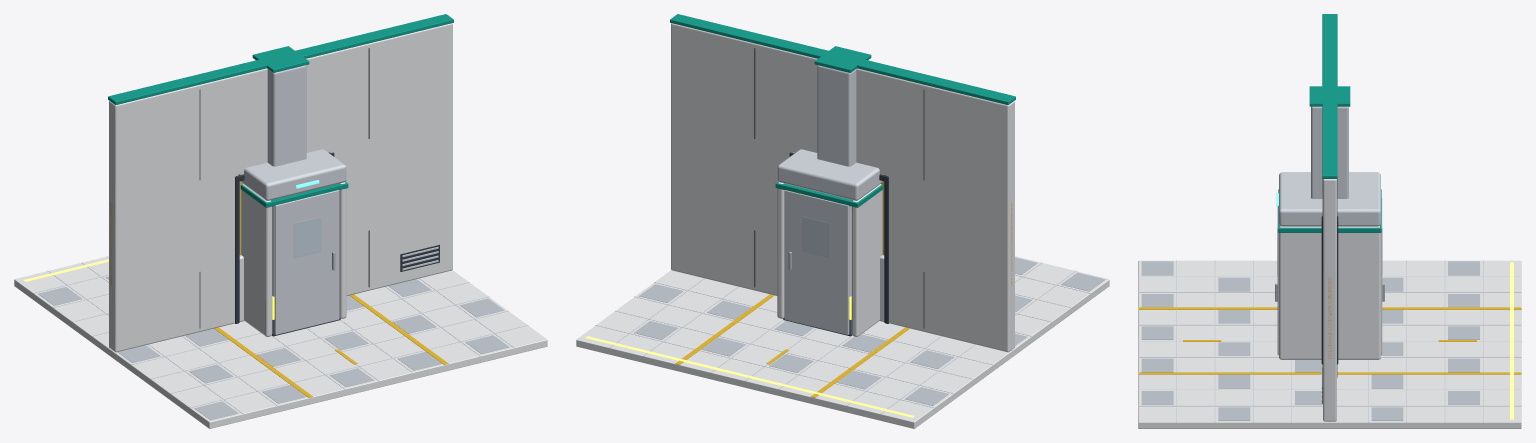
File: cleanroom.glb
3 views of the same model, side by side, from view 1: azimuth 30°, elevation 25°; view 2: azimuth 150°, elevation 25°; view 3: azimuth 270°, elevation 25° (orthographic). The views are drawn at different scales.
Visible parts, largest first — view 1: wall_door_mesh, wall_a_mesh, floor_a_mesh, airshower_a_mesh, airshower_a_doorF, column_a_mesh, floor_aisle_mesh; view 2: wall_a_mesh, floor_a_mesh, wall_door_mesh, airshower_a_mesh, airshower_a_doorB, column_a_mesh, floor_aisle_mesh, floor_litho_mesh; view 3: floor_a_mesh, airshower_a_mesh, wall_a_mesh, wall_door_mesh, column_a_mesh, floor_aisle_mesh, floor_litho_mesh.
Boxes of the visible parts, box(x1,y1,x2,y2) form: wall_door_mesh: box(108, 14, 453, 351); wall_a_mesh: box(108, 14, 453, 352); floor_a_mesh: box(14, 256, 547, 428); airshower_a_mesh: box(240, 149, 348, 336); airshower_a_doorF: box(274, 190, 339, 334); column_a_mesh: box(252, 46, 309, 319); floor_aisle_mesh: box(214, 294, 448, 397); wall_a_mesh: box(670, 14, 1015, 352); floor_a_mesh: box(576, 256, 1109, 428); wall_door_mesh: box(670, 14, 1014, 351); airshower_a_mesh: box(775, 149, 883, 336); airshower_a_doorB: box(784, 190, 849, 334); column_a_mesh: box(814, 46, 871, 319); floor_aisle_mesh: box(675, 294, 909, 397); floor_litho_mesh: box(585, 336, 914, 417); floor_a_mesh: box(1138, 260, 1521, 428); airshower_a_mesh: box(1276, 172, 1381, 359); wall_a_mesh: box(1321, 14, 1337, 421); wall_door_mesh: box(1321, 14, 1338, 420); column_a_mesh: box(1309, 86, 1350, 198); floor_aisle_mesh: box(1138, 307, 1521, 374); floor_litho_mesh: box(1510, 262, 1513, 419).
Size of the model in its own units: 6 by 4.38 by 6.
